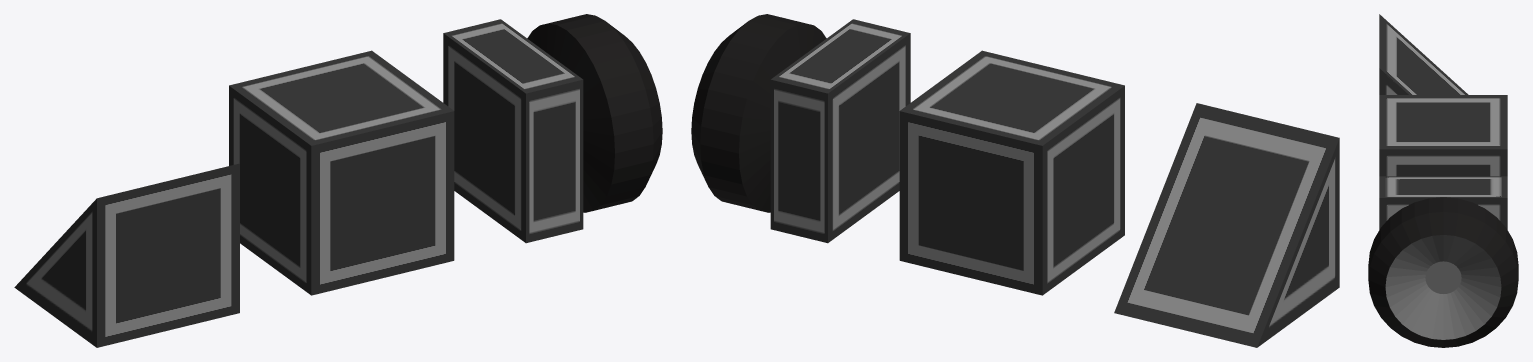
Rendered from buildingBLocks.fbx.
3 renders of one model, left to right at view 1: azimuth 30°, elevation 25°; view 2: azimuth 150°, elevation 25°; view 3: azimuth 270°, elevation 25°, orthographic. The views are drawn at different scales.
Parts seen in each view (by area): view 1: Cube, Cube.001, Cube.002, Cube.003; view 2: Cube, Cube.001, Cube.002, Cube.003; view 3: Cube.003, Cube, Cube.002, Cube.001.
Part boxes in pixels (x1,y1,x2,y2): Cube: (229, 50, 454, 295); Cube.001: (14, 163, 239, 347); Cube.002: (443, 19, 583, 243); Cube.003: (527, 14, 662, 212); Cube: (899, 50, 1124, 295); Cube.001: (1114, 103, 1339, 347); Cube.002: (770, 19, 910, 243); Cube.003: (691, 14, 826, 212); Cube.003: (1368, 197, 1518, 347); Cube: (1379, 95, 1507, 176); Cube.002: (1379, 176, 1507, 229); Cube.001: (1379, 14, 1468, 94).
Size of the model in its own units: 797 by 235 by 235.
